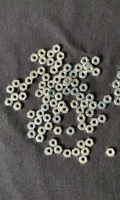nut: (81, 148, 90, 157), (45, 147, 54, 156), (49, 139, 58, 148), (91, 118, 100, 127), (104, 95, 113, 104), (47, 89, 56, 98), (30, 70, 39, 79), (53, 75, 62, 84), (59, 70, 68, 79), (50, 66, 59, 75), (92, 56, 100, 66), (107, 149, 116, 157), (80, 156, 88, 165), (73, 148, 81, 157), (54, 146, 63, 154), (78, 140, 86, 149), (86, 138, 94, 147), (98, 115, 107, 123), (86, 125, 95, 133), (78, 123, 87, 131), (67, 127, 75, 136), (54, 127, 63, 135), (36, 135, 45, 143), (28, 131, 37, 139), (38, 127, 47, 135), (35, 117, 43, 126), (78, 115, 87, 123), (86, 109, 95, 117), (90, 101, 98, 110), (98, 102, 107, 110), (53, 116, 62, 124), (43, 114, 52, 122), (37, 109, 45, 118), (27, 111, 36, 119), (77, 106, 85, 115), (81, 100, 89, 109), (60, 106, 69, 114), (50, 99, 58, 108), (42, 103, 50, 112), (86, 94, 95, 102), (71, 88, 80, 96), (63, 87, 71, 96), (55, 93, 64, 101), (42, 74, 51, 82), (38, 66, 46, 75), (25, 77, 34, 85), (12, 80, 21, 88), (6, 86, 15, 94), (5, 98, 14, 106), (14, 102, 22, 111), (47, 80, 55, 89), (65, 76, 73, 85), (71, 79, 80, 87), (70, 70, 78, 79), (64, 64, 72, 73), (80, 70, 88, 79), (75, 64, 83, 73), (93, 68, 101, 77), (85, 65, 94, 73), (83, 61, 91, 70), (81, 57, 90, 65), (55, 59, 63, 68), (46, 58, 55, 66), (57, 52, 65, 61), (53, 44, 61, 53), (47, 50, 56, 58), (38, 49, 47, 57), (64, 150, 72, 158), (45, 123, 53, 131), (28, 122, 36, 130), (71, 101, 79, 109), (53, 107, 61, 115), (58, 101, 66, 109), (77, 93, 85, 101), (80, 84, 88, 92), (43, 96, 51, 104), (43, 88, 51, 96), (35, 90, 43, 98), (39, 82, 47, 90), (20, 83, 28, 91), (19, 93, 27, 101), (11, 93, 19, 101), (39, 57, 47, 65), (31, 54, 39, 62), (113, 80, 120, 89), (56, 83, 63, 92), (63, 80, 71, 87), (115, 88, 120, 97), (115, 98, 120, 106), (117, 71, 120, 80)
